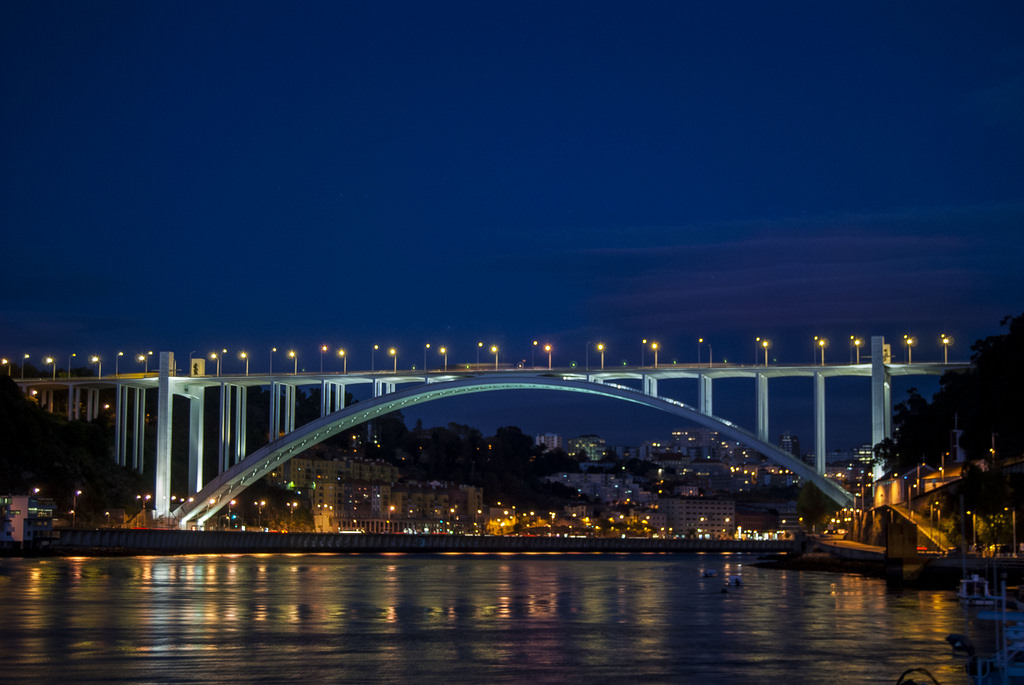arrabida: (0, 334, 973, 530)
